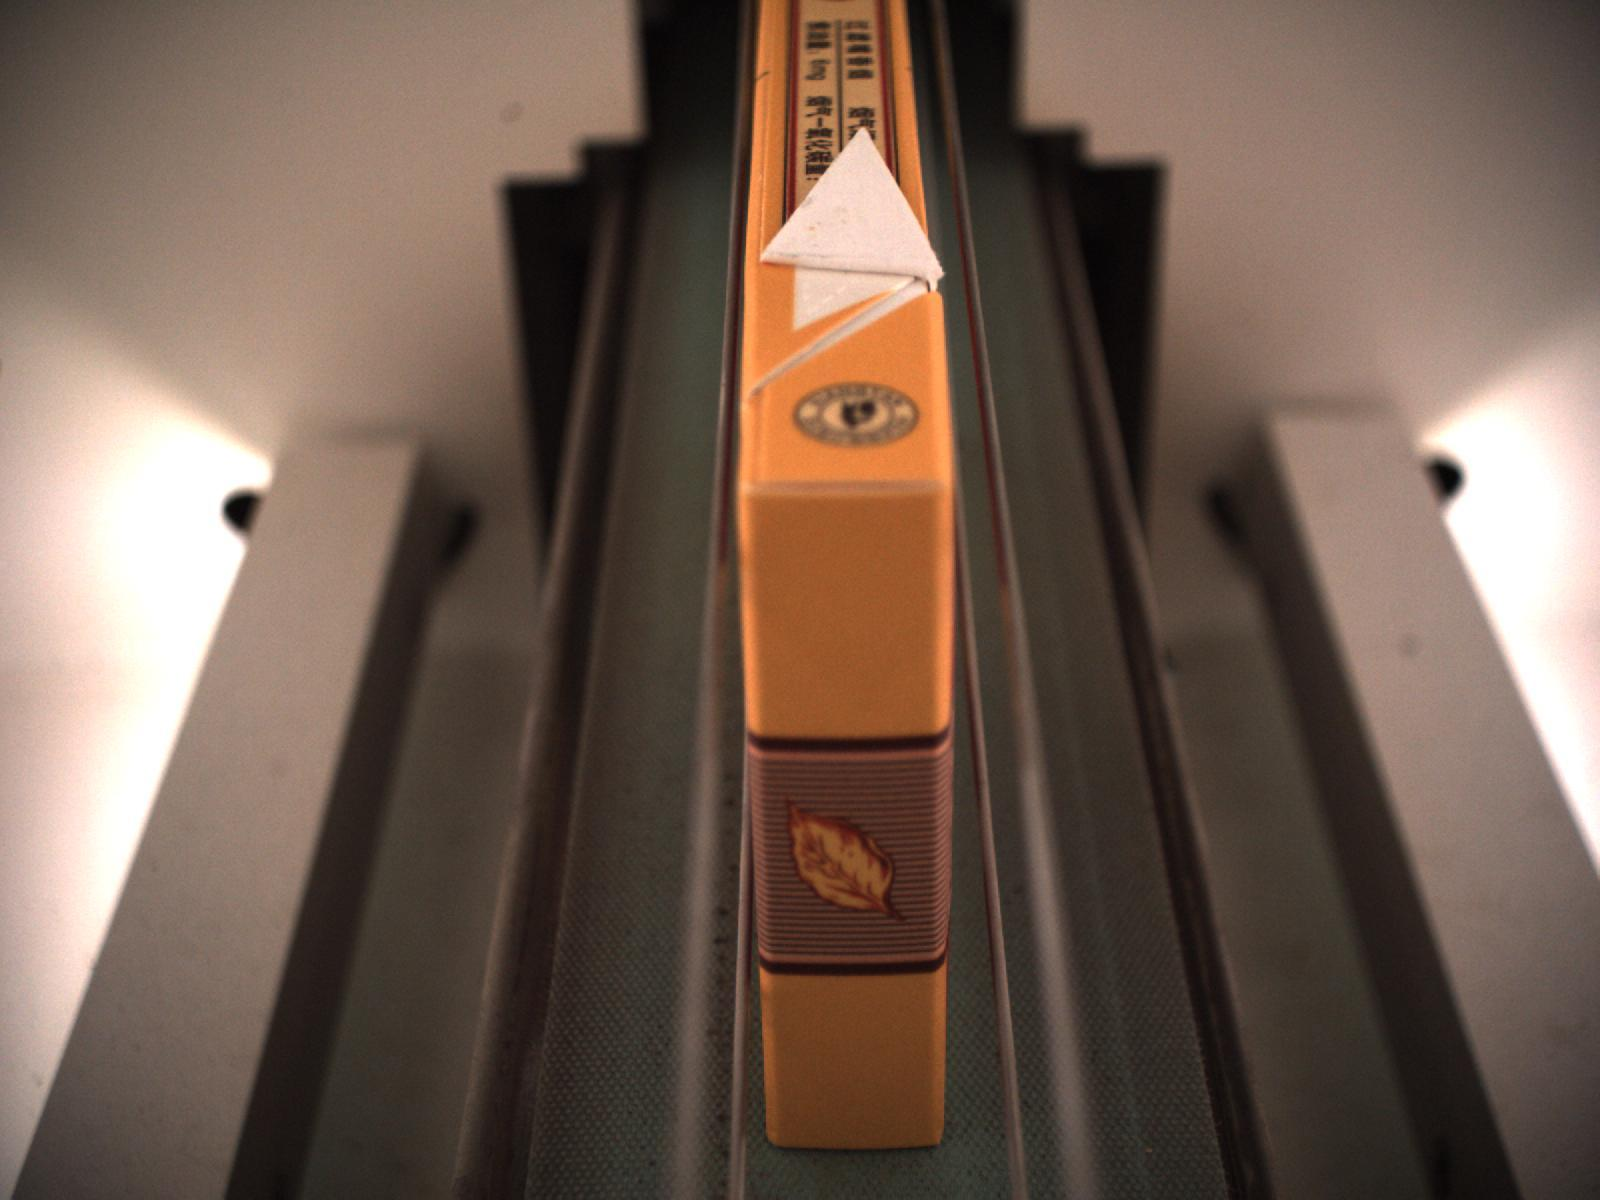outerFold_upper_2: (750, 117, 946, 384)
